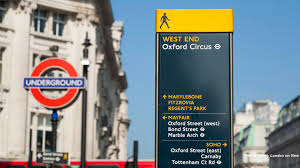London Underground: (23, 56, 87, 105)
